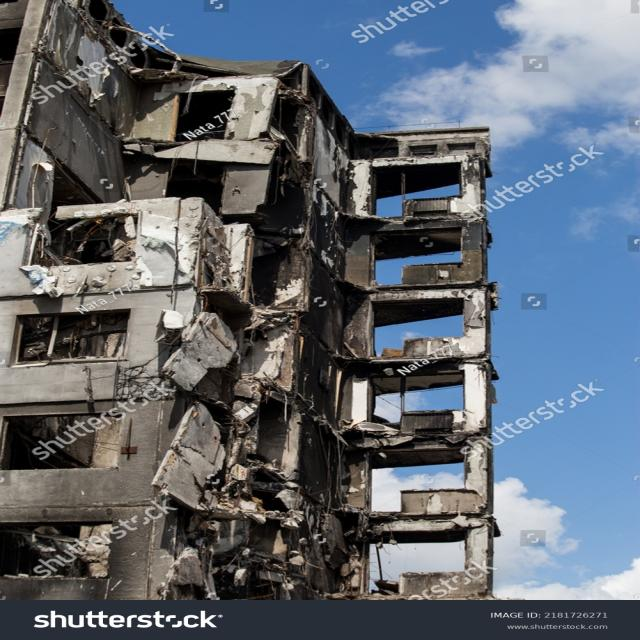Destroyed_building: (9, 0, 640, 600)
